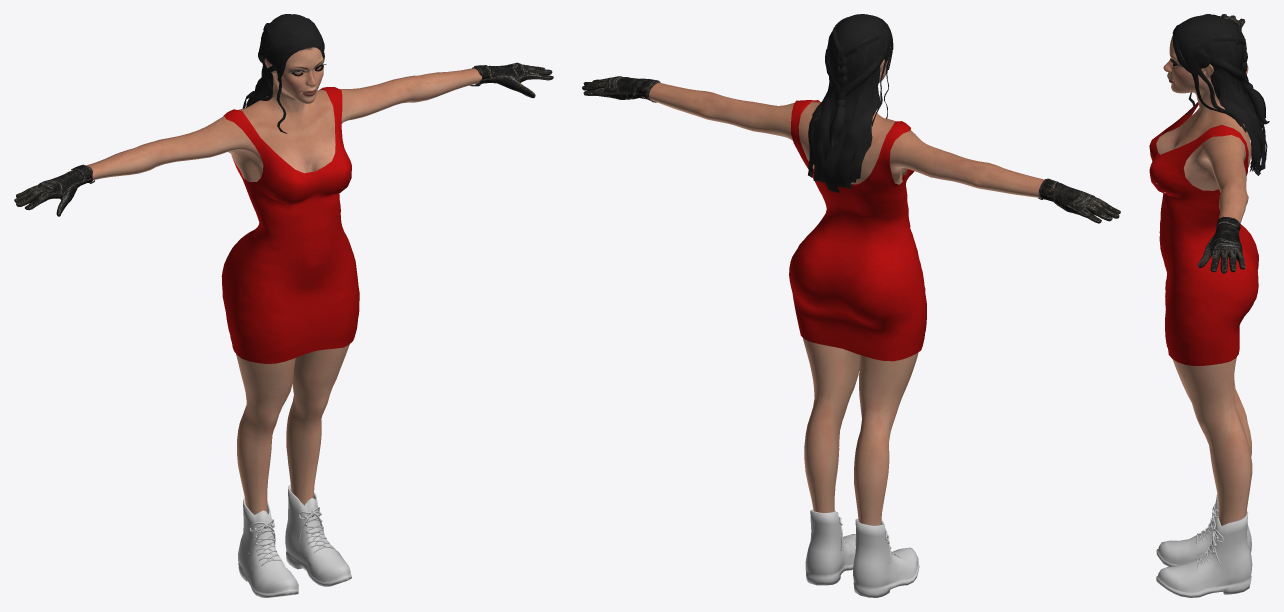
File: sexykiz.obj
The picture shows the model from 3 angles, left to right: view 1: azimuth 30°, elevation 25°; view 2: azimuth 150°, elevation 25°; view 3: azimuth 270°, elevation 25°; orthographic projection.
Visible parts, largest first — view 1: Body, Tops, Shoes, Hair, Gloves; view 2: Body, Tops, Hair, Shoes, Gloves; view 3: Tops, Body, Hair, Shoes, Gloves.
Boxes of the visible parts, left/top/right/bottom form: Body: left=83, top=47, right=492, bottom=514; Tops: left=221, top=87, right=359, bottom=363; Shoes: left=238, top=485, right=351, bottom=597; Hair: left=242, top=14, right=324, bottom=133; Gloves: left=14, top=62, right=553, bottom=216; Body: left=641, top=47, right=1044, bottom=525; Tops: left=789, top=100, right=926, bottom=361; Hair: left=808, top=14, right=893, bottom=192; Shoes: left=805, top=509, right=919, bottom=597; Gloves: left=582, top=76, right=1120, bottom=223; Tops: left=1149, top=102, right=1258, bottom=365; Body: left=1155, top=36, right=1252, bottom=525; Hair: left=1172, top=14, right=1269, bottom=175; Shoes: left=1156, top=494, right=1252, bottom=597; Gloves: left=1197, top=14, right=1245, bottom=273.
Bounding box in the file's own units: 179 × 179 × 34.99.
